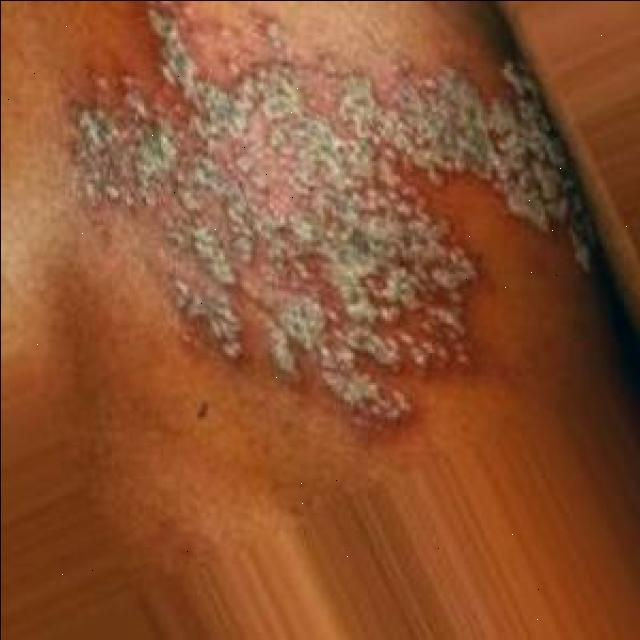Shingles: (61, 0, 588, 442)
